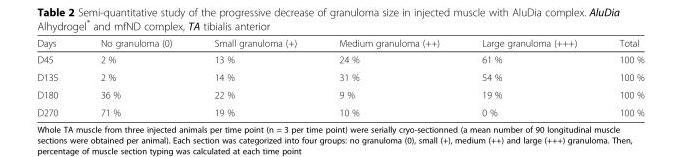table: (36, 37, 643, 117)
table column: (317, 37, 460, 117), (460, 37, 597, 117), (192, 37, 317, 117), (78, 37, 192, 117), (597, 37, 643, 117), (36, 37, 78, 117)
table column header: (36, 37, 643, 50)
table row: (36, 50, 643, 68), (36, 85, 643, 103), (36, 68, 643, 85), (36, 103, 643, 117), (36, 37, 643, 50)
